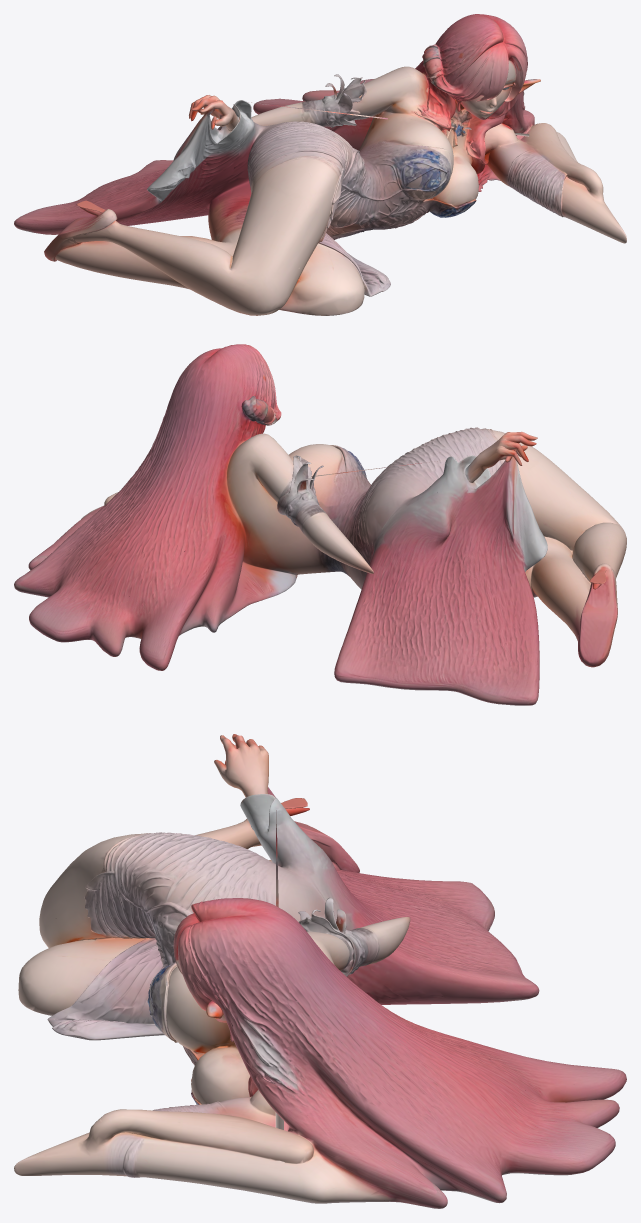
Rendered from 01a1b77a-2e3e-7093-94c0-cde69532e3b2.glb.
The picture shows the model from 3 angles, top to bottom: view 1: azimuth 30°, elevation 25°; view 2: azimuth 150°, elevation 25°; view 3: azimuth 270°, elevation 25°; orthographic projection. The views are drawn at different scales.
Visible parts, largest first — view 1: node_0; view 2: node_0; view 3: node_0.
Part boxes in pixels (box(x1,y1,x2,y2)): node_0: box(14, 14, 626, 315); node_0: box(14, 344, 626, 705); node_0: box(14, 734, 626, 1208).
Size of the model in its own units: 1.04 by 0.3522 by 0.8101.
1 material, 1 textured.
